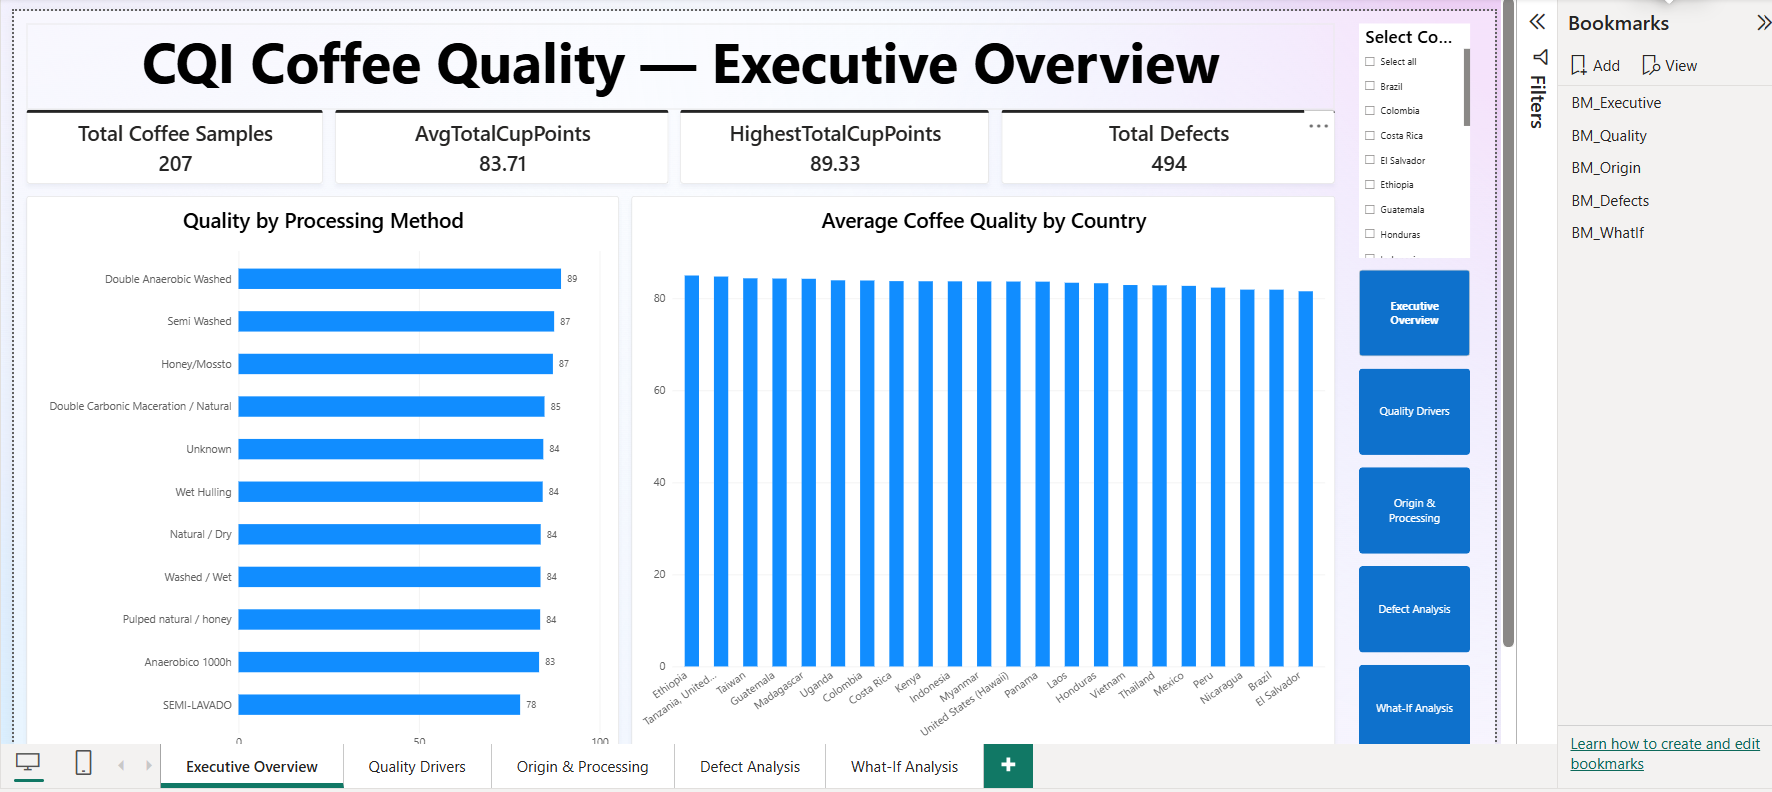

What the dashboard file says about the page in this screenshot:
{"tool":"powerbi","page":{"name":"Executive Overview","canvas":[1920,1080],"ordinal":0},"visuals":[{"type":"cardVisual","title":"Total Coffee Samples","fields":{"Data":["Coffee_Data.Total Coffee Samples"]},"box":[16,128,384,96],"z":0},{"type":"cardVisual","fields":{"Data":["Coffee_Data.AvgTotalCupPoints"]},"box":[416,128,432,96],"z":1000},{"type":"cardVisual","fields":{"Data":["Coffee_Data.HighestTotalCupPoints"]},"box":[864,128,400,96],"z":2000},{"type":"cardVisual","fields":{"Data":["Coffee_Data.Total Defects"]},"box":[1280,128,432,96],"z":3000},{"type":"clusteredColumnChart","title":"Average Coffee Quality by Country","fields":{"Category":["Coffee_Data.Country of Origin"],"Y":["Coffee_Data.AvgTotalCupPoints"]},"box":[800,240,912,736],"z":4000},{"type":"clusteredBarChart","title":"Quality by Processing Method","fields":{"Category":["Coffee_Data.Processing Method"],"Y":["Coffee_Data.AvgTotalCupPoints"]},"box":[16,240,768,736],"z":5000},{"type":"actionButton","box":[1744,336,144,112],"z":6000},{"type":"actionButton","box":[1744,464,144,112],"z":7000},{"type":"actionButton","box":[1744,592,144,112],"z":8000},{"type":"actionButton","box":[1744,720,144,112],"z":9000},{"type":"actionButton","box":[1744,848,144,112],"z":10000},{"type":"textbox","box":[16,16,1696,112],"z":11000},{"type":"slicer","fields":{"Values":["Coffee_Data.Country of Origin"]},"box":[1744,16,144,304],"z":12000}]}

Visuals, with their boxes on the page's 1920x1080 design canvas (x1, y1, x2, y2). These are canvas units, not pixel positions in the 1772x792 screenshot, which may show the page scaled, cropped or inside an application window:
"Total Coffee Samples" cardVisual: x1=16, y1=128, x2=400, y2=224
cardVisual - Coffee_Data.AvgTotalCupPoints: x1=416, y1=128, x2=848, y2=224
cardVisual - Coffee_Data.HighestTotalCupPoints: x1=864, y1=128, x2=1264, y2=224
cardVisual - Coffee_Data.Total Defects: x1=1280, y1=128, x2=1712, y2=224
"Average Coffee Quality by Country" clusteredColumnChart: x1=800, y1=240, x2=1712, y2=976
"Quality by Processing Method" clusteredBarChart: x1=16, y1=240, x2=784, y2=976
actionButton: x1=1744, y1=336, x2=1888, y2=448
actionButton: x1=1744, y1=464, x2=1888, y2=576
actionButton: x1=1744, y1=592, x2=1888, y2=704
actionButton: x1=1744, y1=720, x2=1888, y2=832
actionButton: x1=1744, y1=848, x2=1888, y2=960
textbox: x1=16, y1=16, x2=1712, y2=128
slicer - Coffee_Data.Country of Origin: x1=1744, y1=16, x2=1888, y2=320
